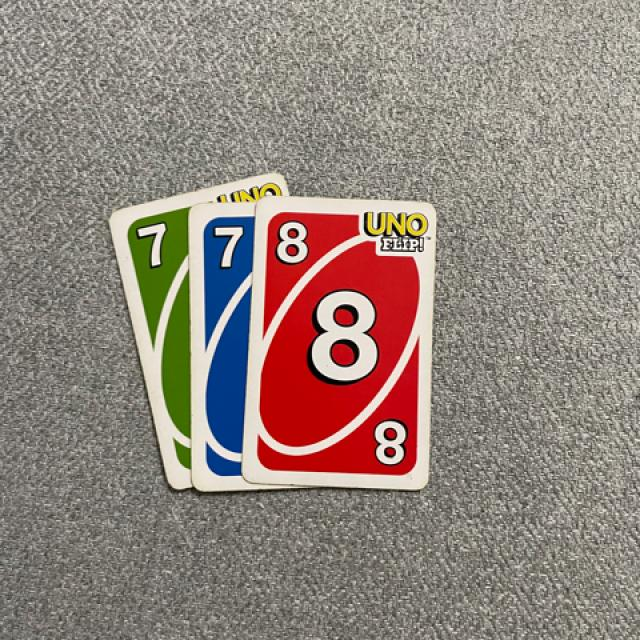lblue-7: (200, 216, 248, 278)
lgreen-7: (124, 215, 184, 278)
lred-8: (265, 209, 321, 276)
